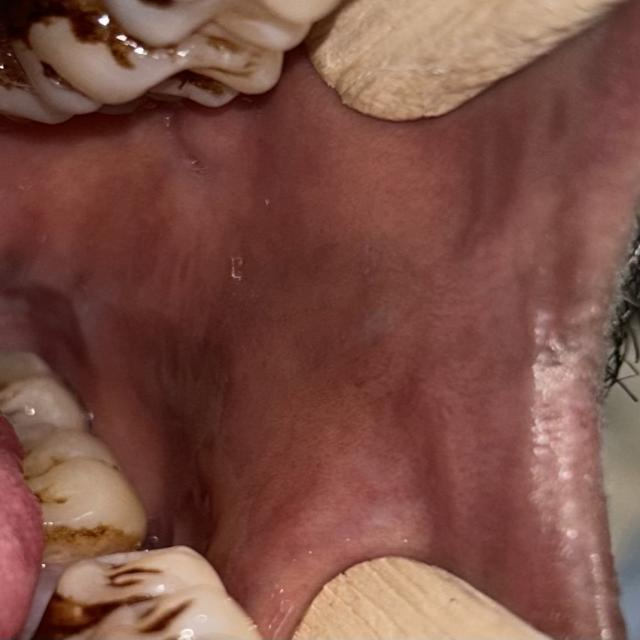leukoplakia-like-detection: (7, 8, 638, 542)
processing_area: (7, 6, 637, 639)
